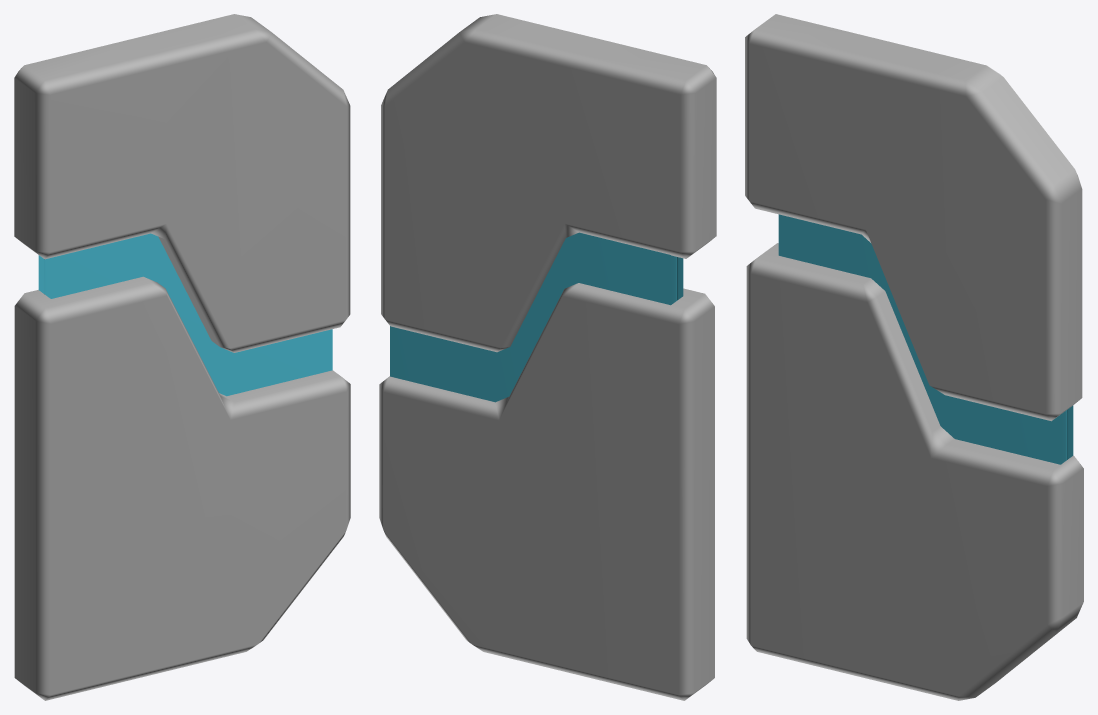
Rendered from panel_002.fbx.
3 renders of one model, left to right at view 1: azimuth 30°, elevation 25°; view 2: azimuth 150°, elevation 25°; view 3: azimuth 330°, elevation 25°, orthographic.
Visible parts, largest first — view 1: panel_002; view 2: panel_002; view 3: panel_002.
Part boxes in pixels (bbox=[...]): panel_002: bbox=[14, 14, 350, 700]; panel_002: bbox=[379, 14, 716, 700]; panel_002: bbox=[745, 14, 1083, 700].
Size of the model in its own units: 507 by 90.89 by 952.
